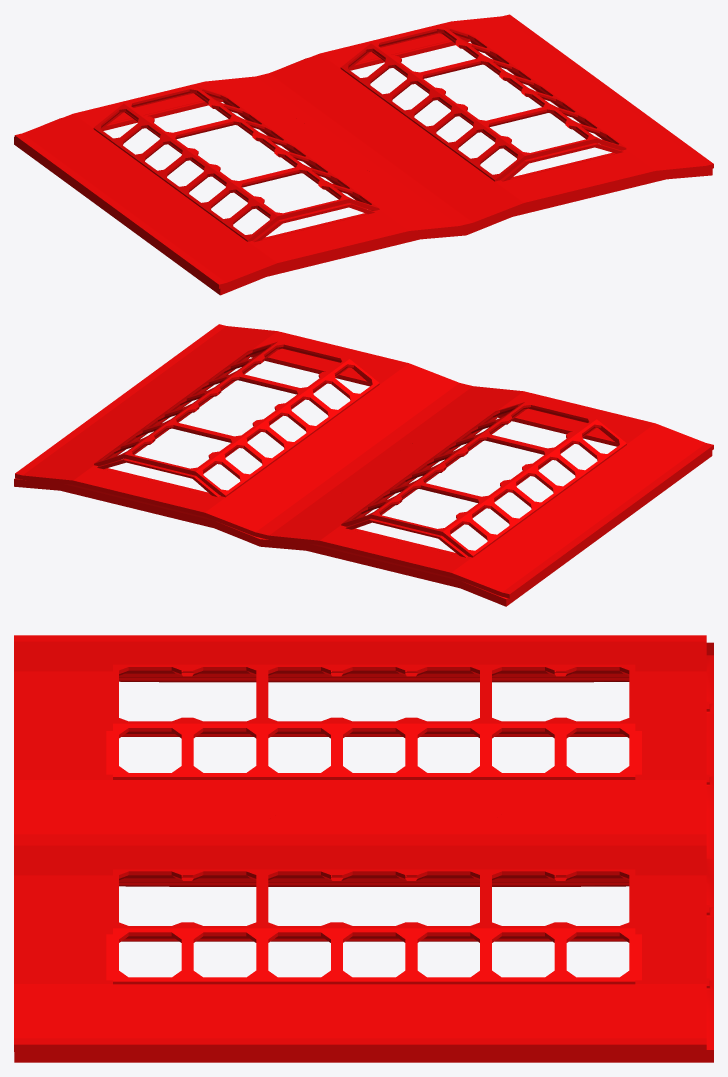
File: stage_01_01_loof_01.FBX
3 renders of one model, top to bottom at view 1: azimuth 30°, elevation 25°; view 2: azimuth 150°, elevation 25°; view 3: azimuth 270°, elevation 25°, orthographic. The views are drawn at different scales.
Parts seen in each view (by area): view 1: Object295; view 2: Object295; view 3: Object295.
Boxes of the visible parts, x1,y1,x2,y2 form: Object295: (14, 14, 713, 295); Object295: (14, 324, 713, 606); Object295: (14, 635, 713, 1062).
Size of the model in its own units: 4166 by 296 by 3008.
